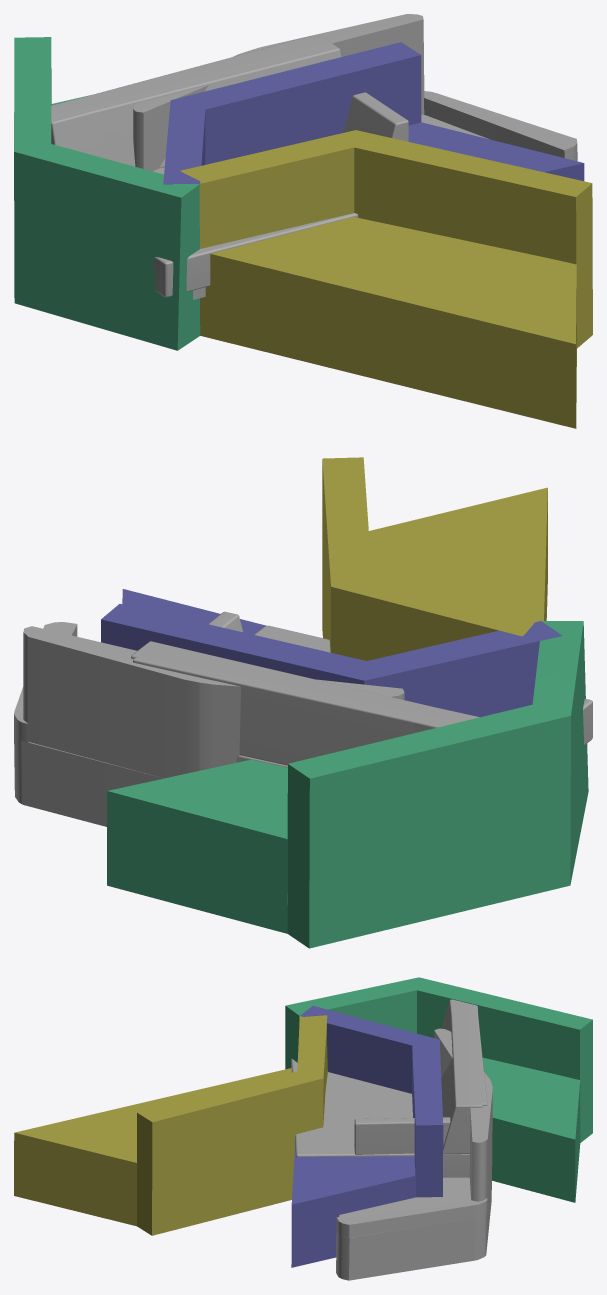
Rendered from canap_LOQ1 (1).fbx.
3 views of the same model, one above another, from view 1: azimuth 30°, elevation 25°; view 2: azimuth 150°, elevation 25°; view 3: azimuth 270°, elevation 25° (orthographic). The views are drawn at different scales.
Parts seen in each view (by area): view 1: canap_tri3_LOQ1, canap_tri1_LOQ1, canap_tri2_LOQ1, canap1_LOQ1, canap2_coud_LOQ1, canap2_LOQ1; view 2: canap_tri1_LOQ1, canap_tri3_LOQ1, canap1_LOQ1, canap_tri2_LOQ1, canap2_coud_LOQ1, canap2_LOQ1; view 3: canap_tri3_LOQ1, canap_tri1_LOQ1, canap_tri2_LOQ1, canap1_LOQ1, canap2_LOQ1, canap2_coud_LOQ1.
Boxes of the visible parts, x1,y1,x2,y2 form: canap_tri3_LOQ1: (180,130,592,428); canap_tri1_LOQ1: (14,37,200,350); canap_tri2_LOQ1: (163,42,584,184); canap1_LOQ1: (133,14,577,171); canap2_coud_LOQ1: (51,35,408,299); canap2_LOQ1: (51,36,358,297); canap_tri1_LOQ1: (107,621,588,948); canap_tri3_LOQ1: (322,457,547,660); canap1_LOQ1: (14,622,404,826); canap_tri2_LOQ1: (101,589,562,717); canap2_coud_LOQ1: (133,611,592,767); canap2_LOQ1: (131,625,592,742); canap_tri3_LOQ1: (14,1015,327,1235); canap_tri1_LOQ1: (285,977,592,1202); canap_tri2_LOQ1: (291,1005,443,1267); canap1_LOQ1: (336,1028,492,1280); canap2_LOQ1: (291,1001,482,1177); canap2_coud_LOQ1: (291,999,487,1156).
Size of the model in its own units: 3.57 by 1.03 by 4.64.
